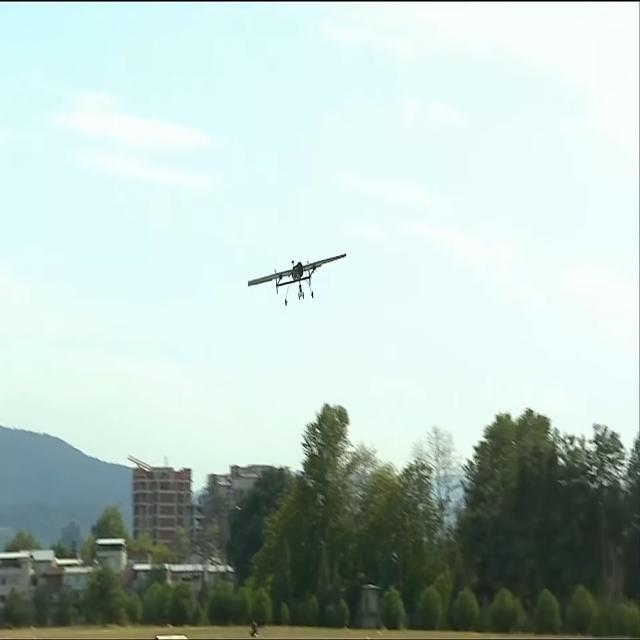iha: (280, 254, 316, 308)
